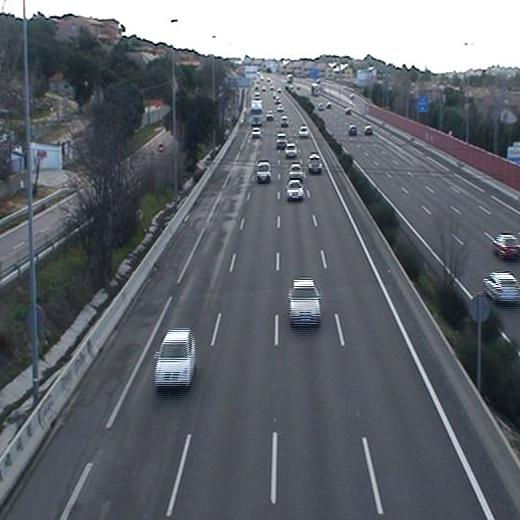car: (151, 329, 199, 389), (287, 277, 324, 327), (284, 179, 306, 201), (255, 160, 273, 183), (307, 153, 324, 174), (287, 161, 303, 180), (284, 142, 299, 156), (276, 132, 287, 149), (251, 127, 261, 140)
truck: (249, 98, 264, 126)
